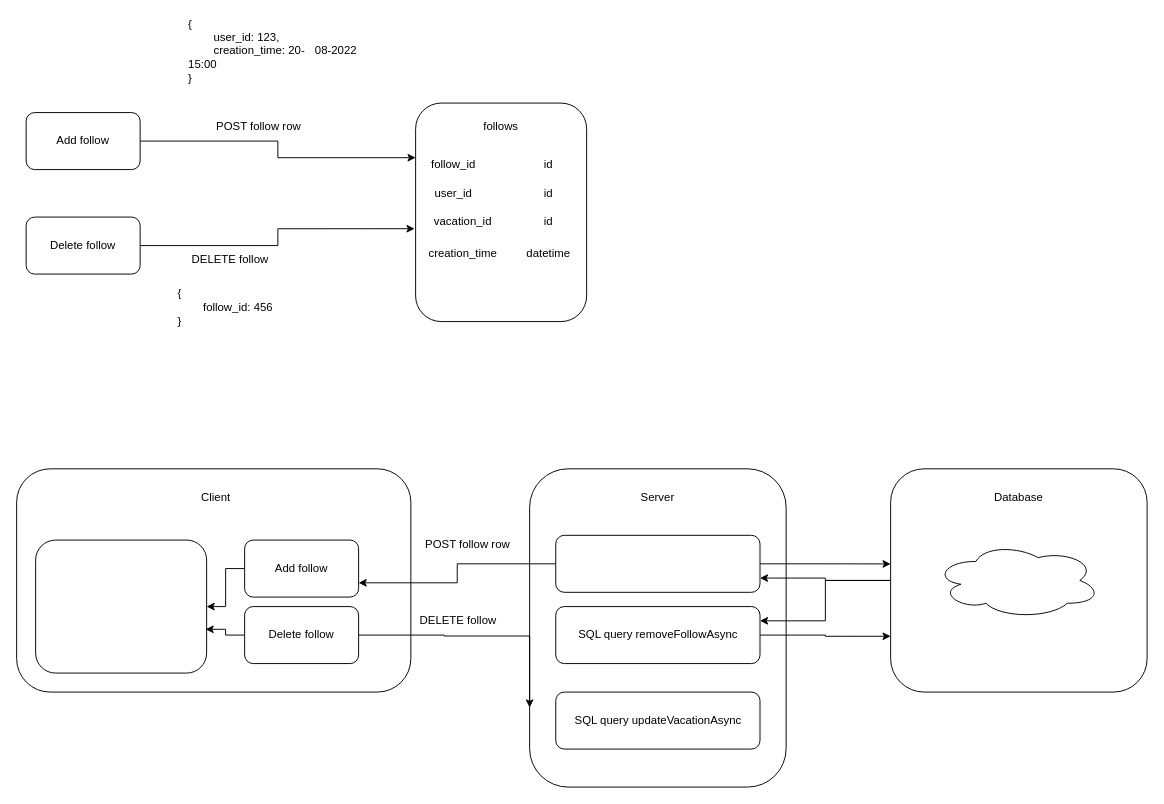
Some shapes in this 1164 by 804 pixel diagram are drawn without their labels. Here are the shapes that lost their labels. From the top down, the centre of each, then its label:
At pixel 657 563: "SQL query addFollowAsync".
At pixel 1017 580: "something happens".
At pixel 121 606: "Redux".
